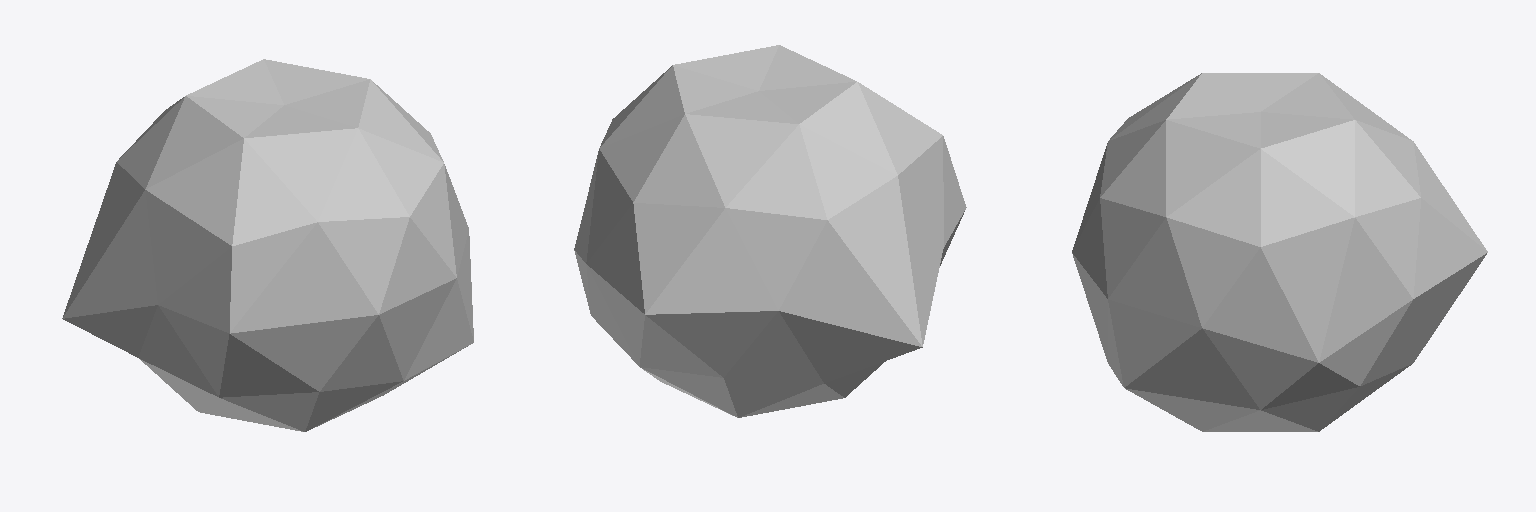
Rendered from asteroid.obj.
3 renders of one model, left to right at view 1: azimuth 30°, elevation 25°; view 2: azimuth 150°, elevation 25°; view 3: azimuth 270°, elevation 25°, orthographic.
Visible parts, largest first — view 1: Esfera_icosaédrica; view 2: Esfera_icosaédrica; view 3: Esfera_icosaédrica.
Part boxes in pixels (x1,y1,x2,y2): Esfera_icosaédrica: (62,59,473,431); Esfera_icosaédrica: (574,45,966,417); Esfera_icosaédrica: (1072,73,1487,431).
Size of the model in its own units: 0.3245 by 0.2817 by 0.3356.